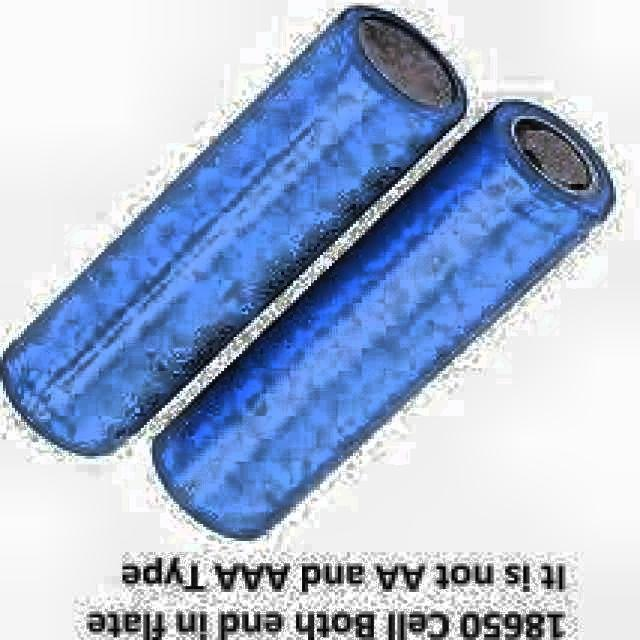Non-Valuable Waste - Batteries: (3, 14, 464, 450), (156, 108, 613, 538)
